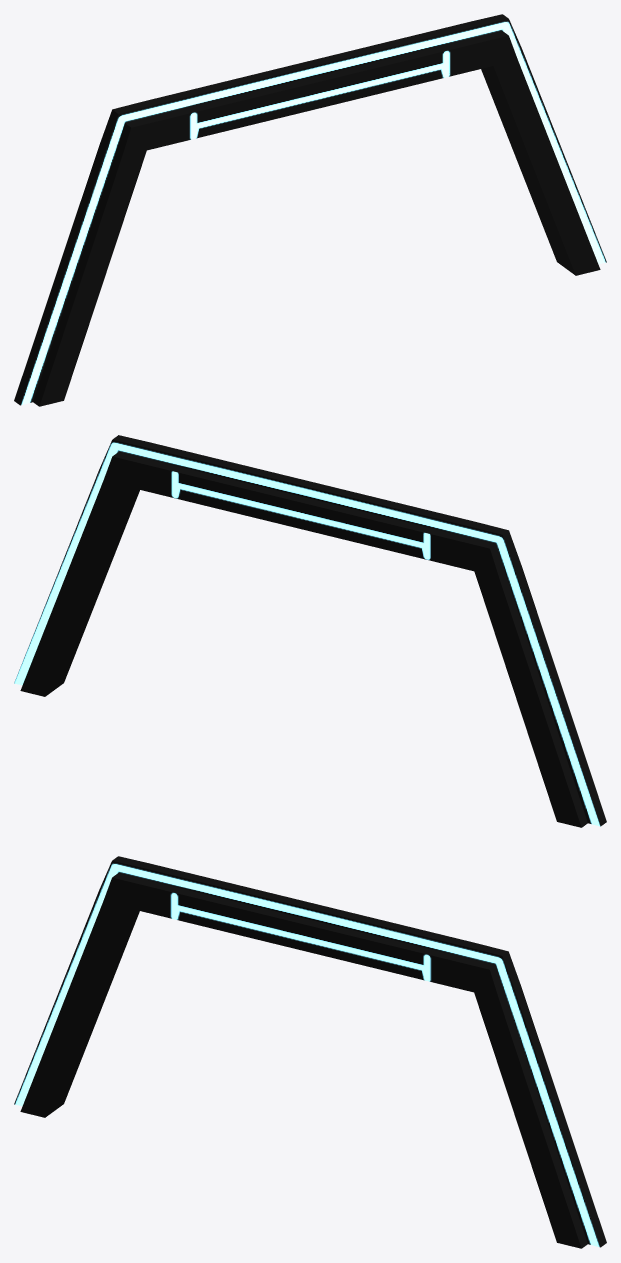
File: goal.fbx
The picture shows the model from 3 angles, top to bottom: view 1: azimuth 30°, elevation 25°; view 2: azimuth 150°, elevation 25°; view 3: azimuth 330°, elevation 25°; orthographic projection.
Parts seen in each view (by area): view 1: pCube1; view 2: pCube1; view 3: pCube1.
Boxes of the visible parts, left/top/right/bottom form: pCube1: left=14, top=14, right=606, bottom=406; pCube1: left=14, top=435, right=606, bottom=827; pCube1: left=14, top=856, right=606, bottom=1248.
Size of the model in its own units: 655 by 286 by 36.79.
